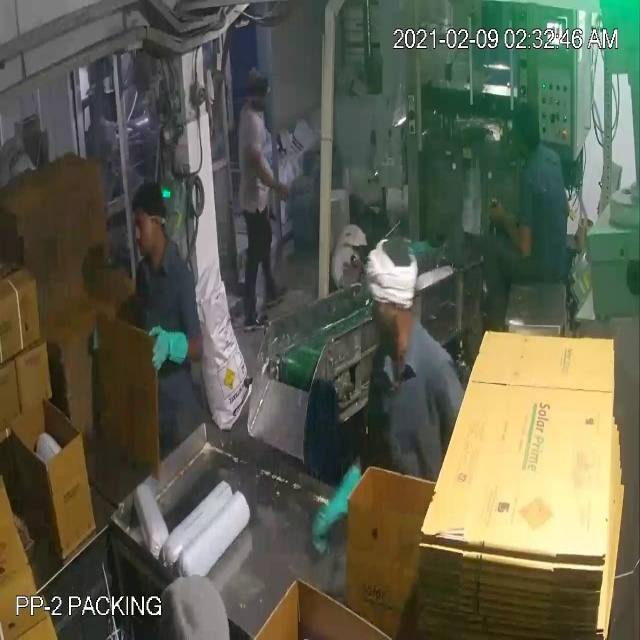Guantes: (302, 464, 370, 550), (142, 315, 199, 373)
Sin_guantes: (482, 195, 545, 266), (248, 132, 297, 212)
